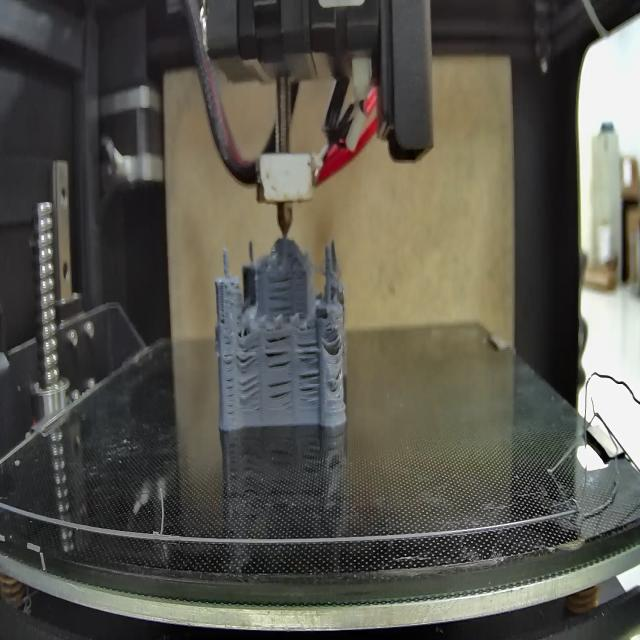cracks: (296, 341, 321, 409), (266, 270, 294, 312), (222, 340, 235, 420), (264, 337, 291, 371), (238, 370, 261, 407), (266, 376, 294, 406), (234, 337, 258, 366), (326, 326, 345, 359), (329, 368, 343, 398), (218, 305, 228, 328)
